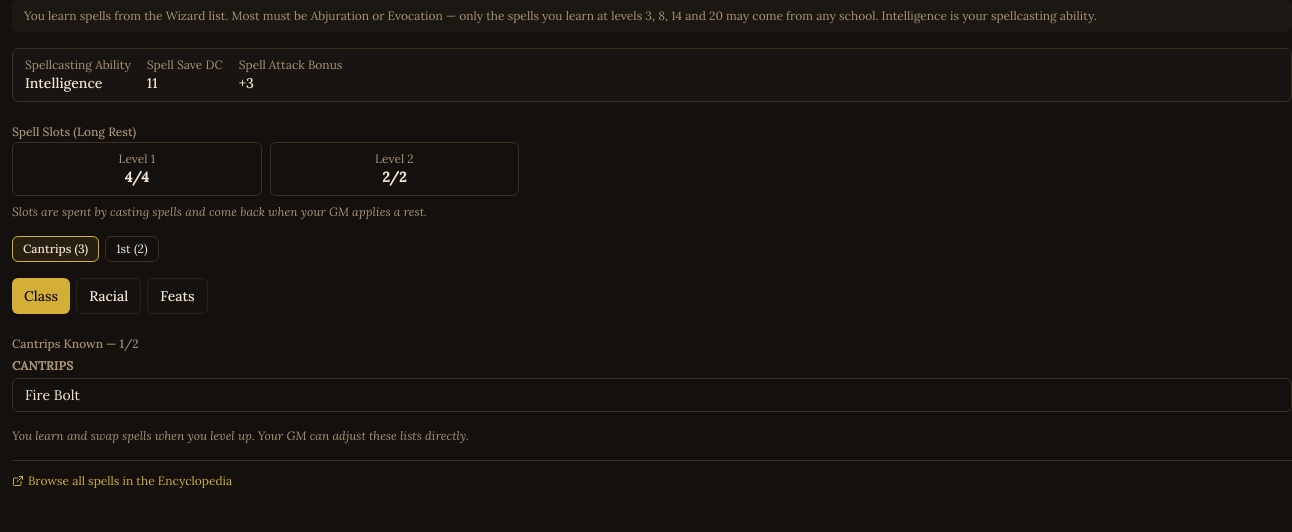
Scenario: ClassSheet — EK spell strip folds Racial + Feat sources › switching to Racial shows the race-granted cantrips
Click the button with test id "spell-source-racial" at (109, 296), box x1=76 y1=278 x2=141 y2=314
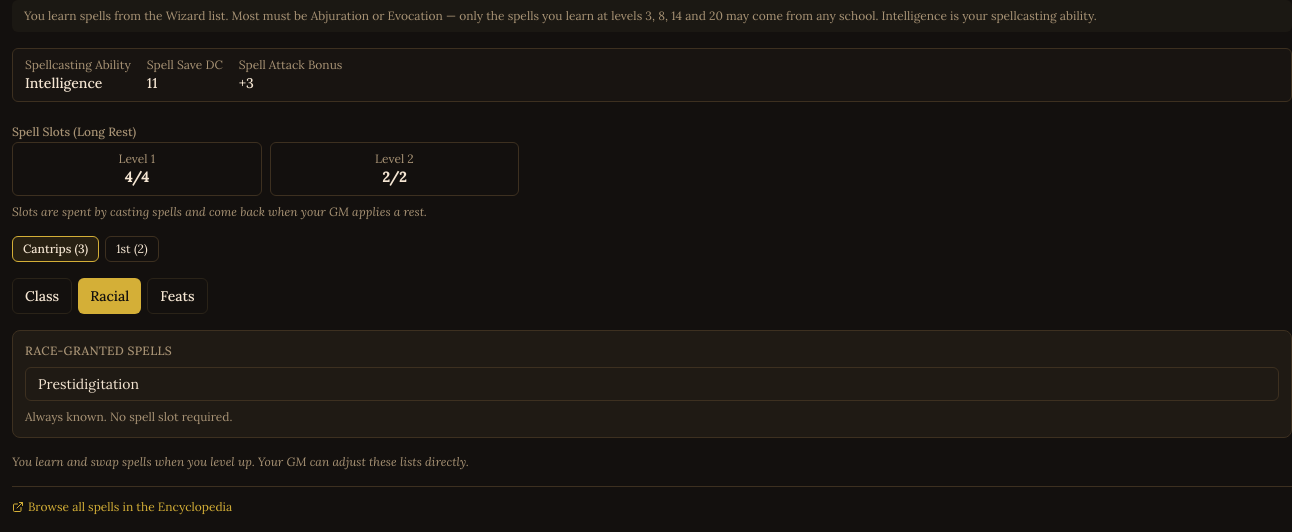
Expected: the button "Prestidigitation" is shown, x1=38 y1=374 x2=1258 y2=394
Expected: the button "Fire Bolt" is gone
